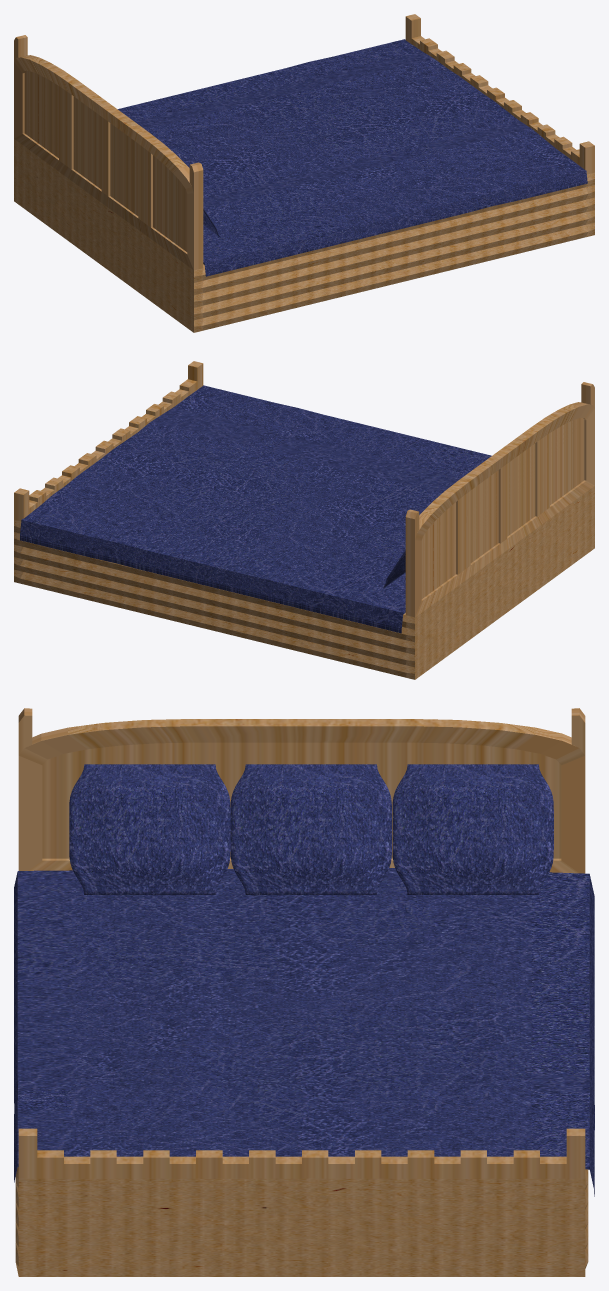
File: lit.fbx
3 views of the same model, one above another, from view 1: azimuth 30°, elevation 25°; view 2: azimuth 150°, elevation 25°; view 3: azimuth 270°, elevation 25° (orthographic). The views are drawn at different scales.
Parts seen in each view (by area): view 1: Plane.001; view 2: Plane.001; view 3: Plane.001.
Part boxes in pixels (left/top/right/bottom): Plane.001: left=14, top=14, right=594, bottom=332; Plane.001: left=14, top=361, right=594, bottom=679; Plane.001: left=14, top=708, right=594, bottom=1276.
Bounding box in the file's own units: 291 × 115 × 232.
2 materials, 2 textured.
